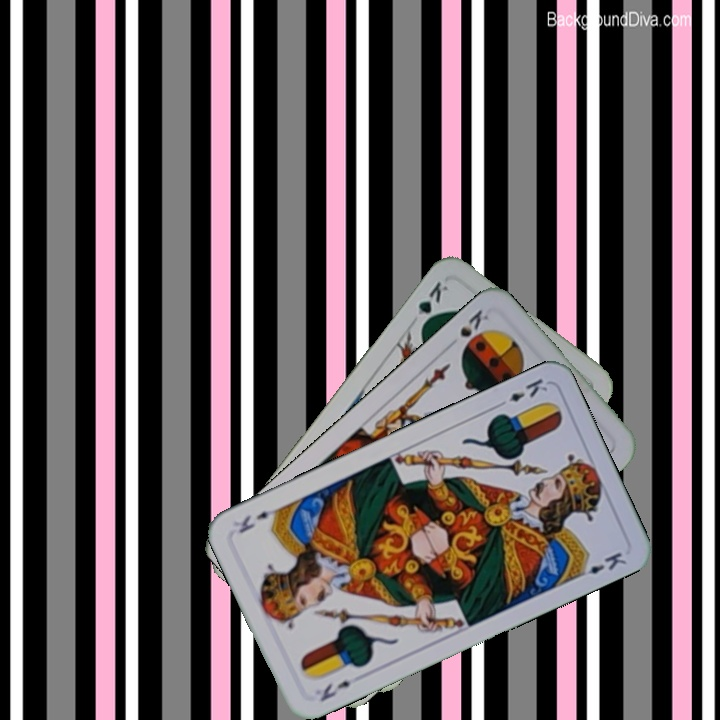EK: (493, 374, 551, 411), (316, 676, 354, 705)
GK: (413, 277, 451, 332)
SK: (456, 305, 492, 340)
